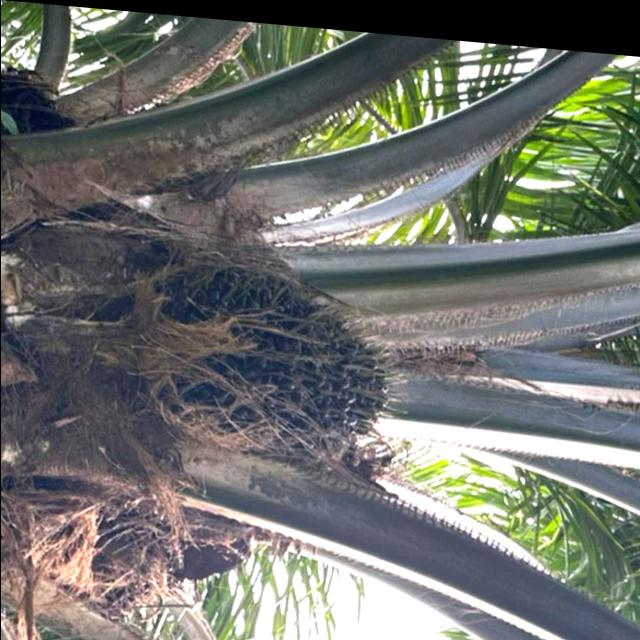almost: (134, 243, 410, 463)
